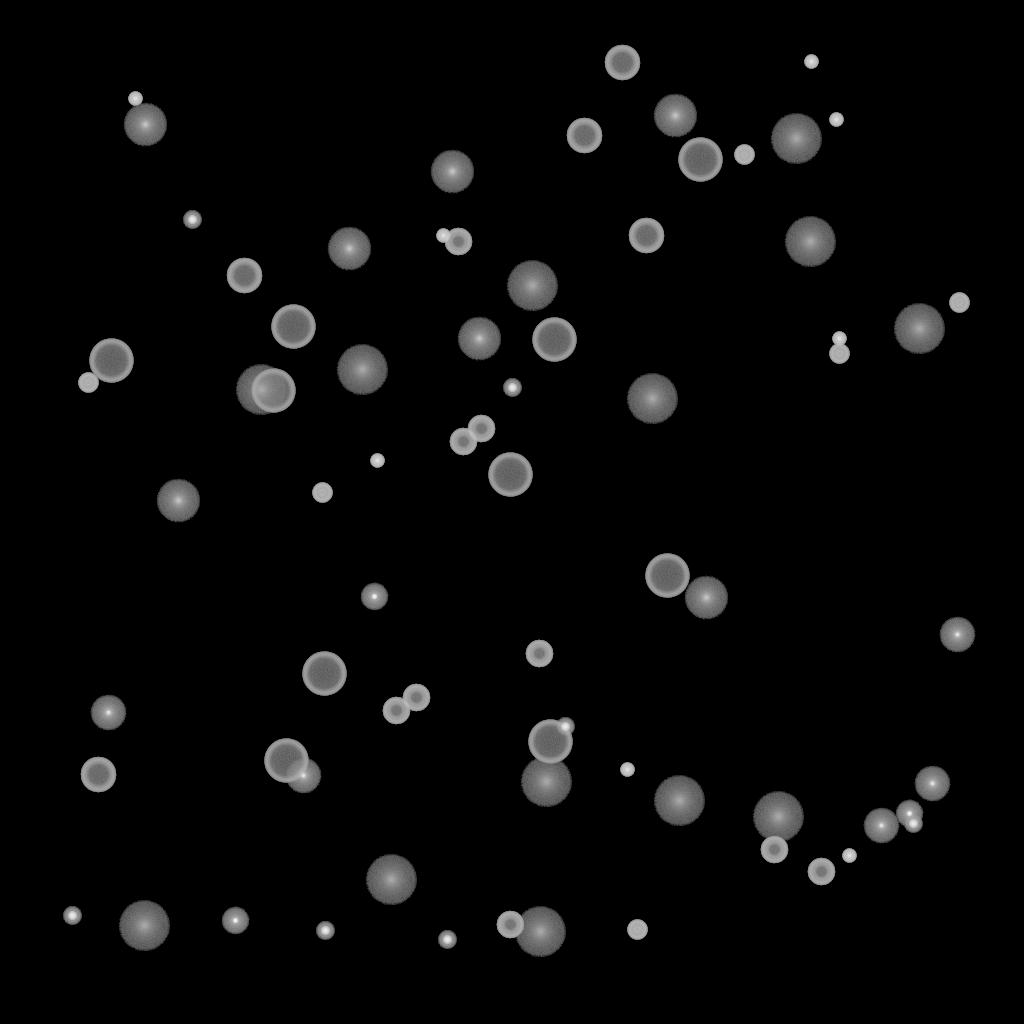depth:-10: (360, 583, 388, 611), (895, 800, 923, 828), (221, 907, 249, 935)
depth:-20: (503, 379, 521, 397), (904, 815, 922, 833), (438, 931, 456, 949), (316, 922, 334, 940), (63, 907, 81, 925), (183, 211, 201, 229), (556, 718, 574, 736)
depth:-30: (620, 763, 634, 777), (842, 849, 856, 863), (370, 454, 384, 468), (804, 55, 818, 69), (436, 229, 450, 243), (832, 332, 846, 346), (829, 113, 843, 127), (128, 92, 142, 106)
depth:-40: (312, 483, 332, 503), (78, 373, 98, 393), (734, 145, 754, 165), (949, 293, 969, 313), (829, 344, 849, 364), (627, 920, 647, 940)
depth:-50: (760, 836, 788, 864), (402, 684, 430, 712), (496, 911, 524, 939), (467, 415, 495, 443), (807, 858, 835, 886), (449, 428, 477, 456), (444, 228, 472, 256), (382, 697, 410, 725), (525, 640, 553, 668)
depth:-60: (566, 118, 602, 154), (628, 218, 664, 254), (226, 258, 262, 294), (80, 757, 116, 793), (604, 45, 640, 81)
depth:-70: (89, 339, 133, 383), (645, 554, 689, 598), (488, 453, 532, 497), (678, 138, 722, 182), (271, 305, 315, 349), (251, 369, 295, 413), (528, 720, 572, 764), (302, 652, 346, 696), (532, 318, 576, 362), (264, 739, 308, 783)
depth:0: (863, 808, 899, 844), (90, 695, 126, 731), (914, 766, 950, 802), (939, 617, 975, 653), (285, 758, 321, 794)
depth:10: (123, 103, 167, 147), (156, 479, 200, 523), (430, 150, 474, 194), (653, 94, 697, 138), (684, 576, 728, 620), (457, 317, 501, 361), (327, 227, 371, 271)
depth:20: (752, 792, 804, 842), (365, 855, 417, 905), (235, 365, 287, 415), (653, 776, 705, 826), (893, 304, 945, 354), (520, 757, 572, 807), (626, 374, 678, 424), (514, 907, 566, 957), (770, 114, 822, 164), (506, 261, 558, 311), (784, 217, 836, 267), (118, 901, 170, 951), (336, 345, 388, 395)
